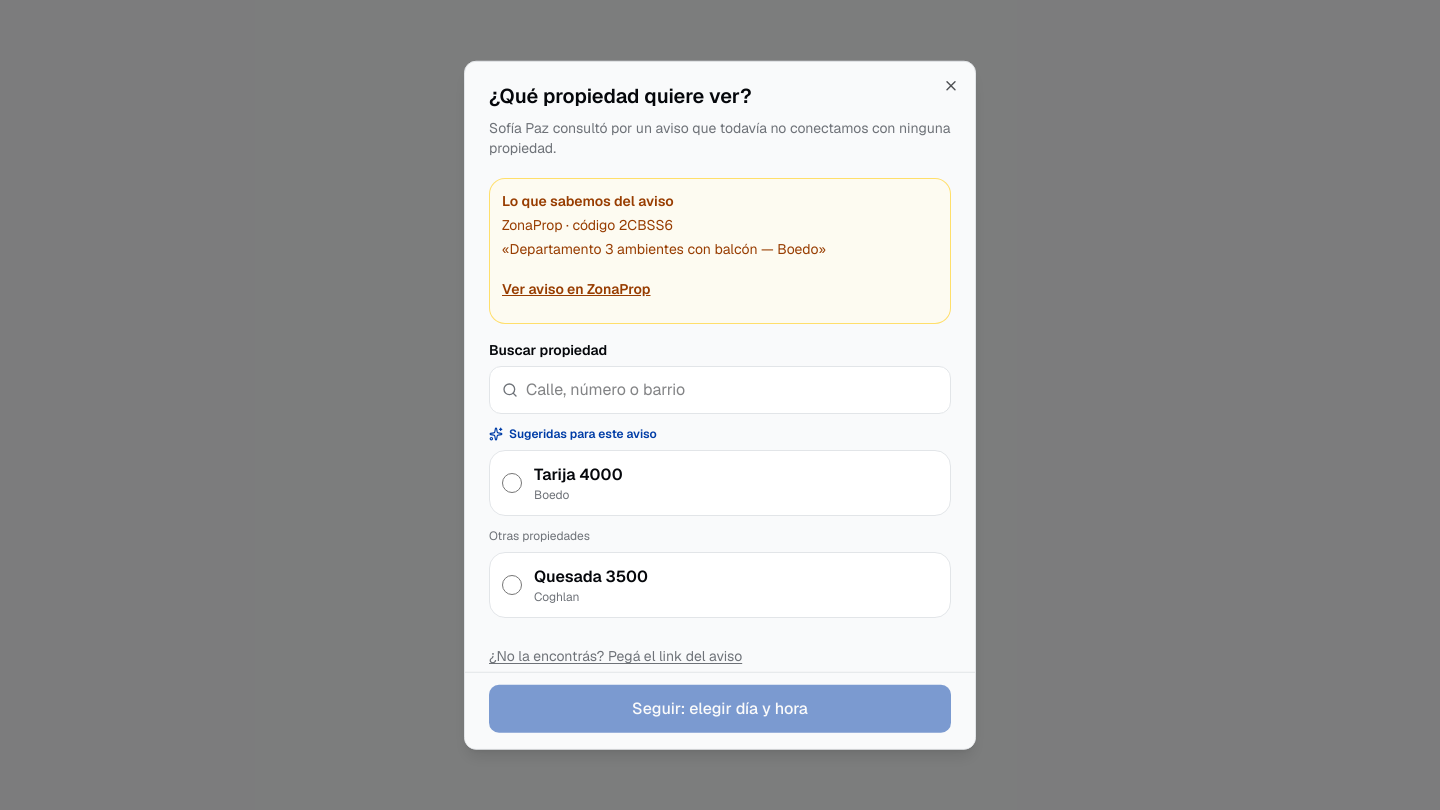
Test: AgendarDesdeConsulta › propone a quien ya muestra otro aviso de la propiedad, nunca a quien la captó
The width and height of the screenshot is (1440, 810).
Step 1. Click the radio button labelled "Tarija 4000 Boedo" → click(512, 483), box [502,473,522,493]
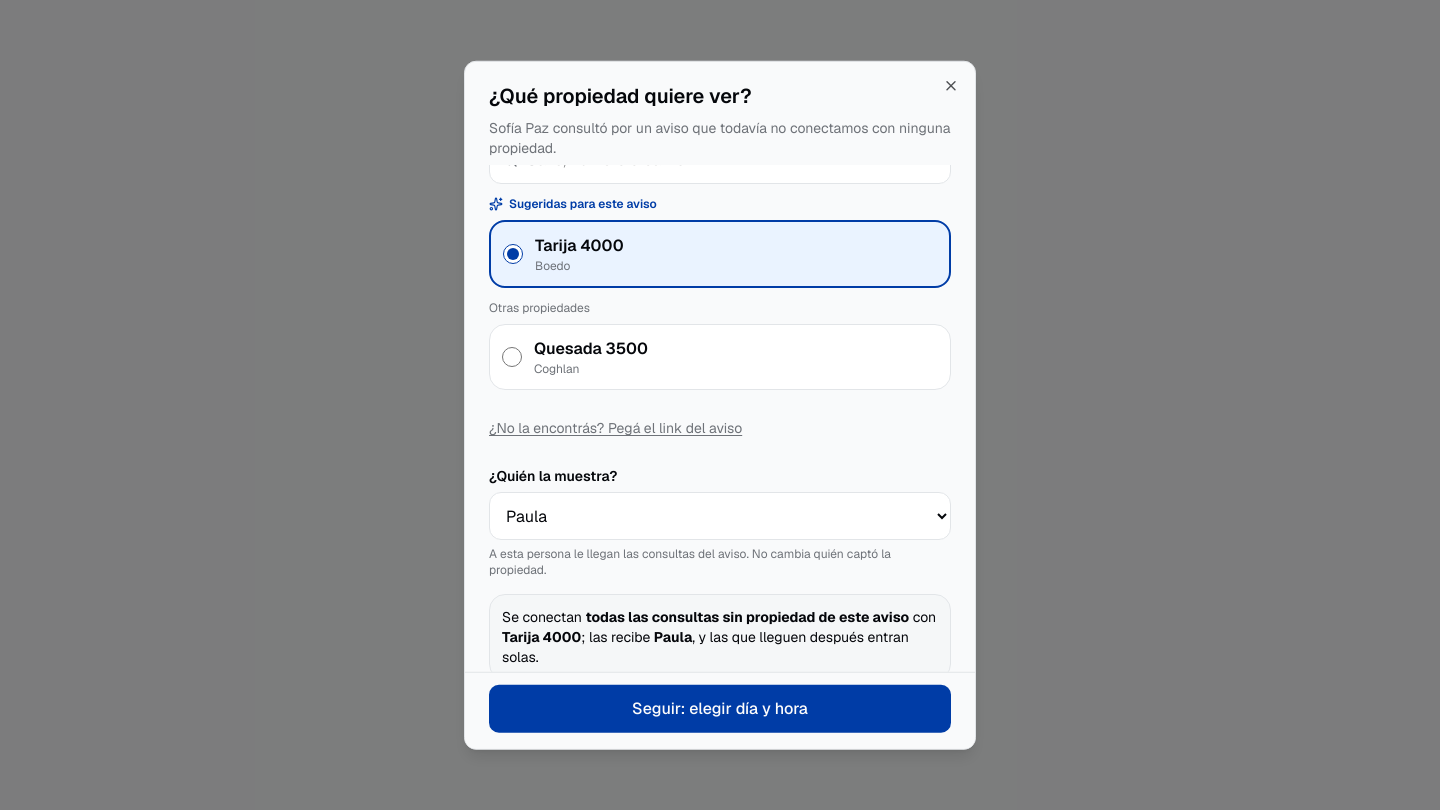
Now the dropdown labelled "Quién la muestra" shows "Paula", box [489,492,951,540]
Now the button "Seguir: elegir día y hora" is enabled, box [489,684,951,732]
